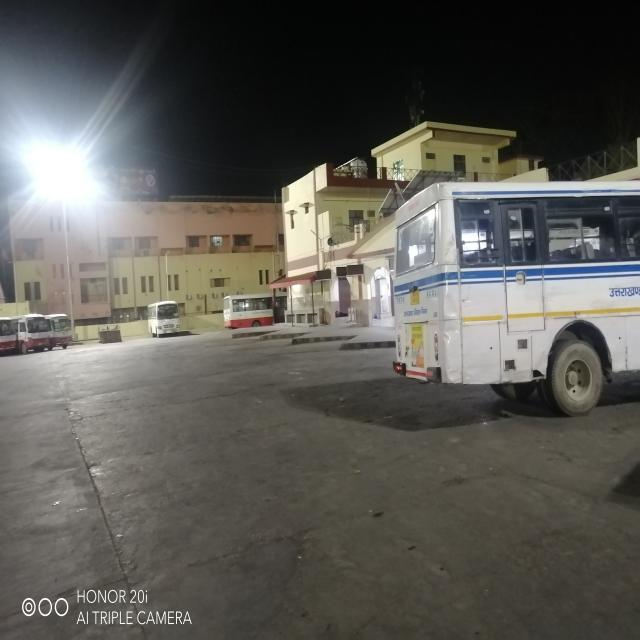Bus: (389, 187, 640, 403)
